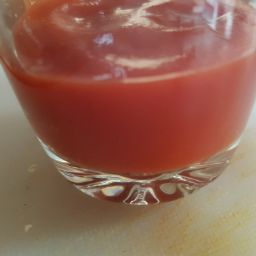Tomato paste: (3, 22, 256, 165)
